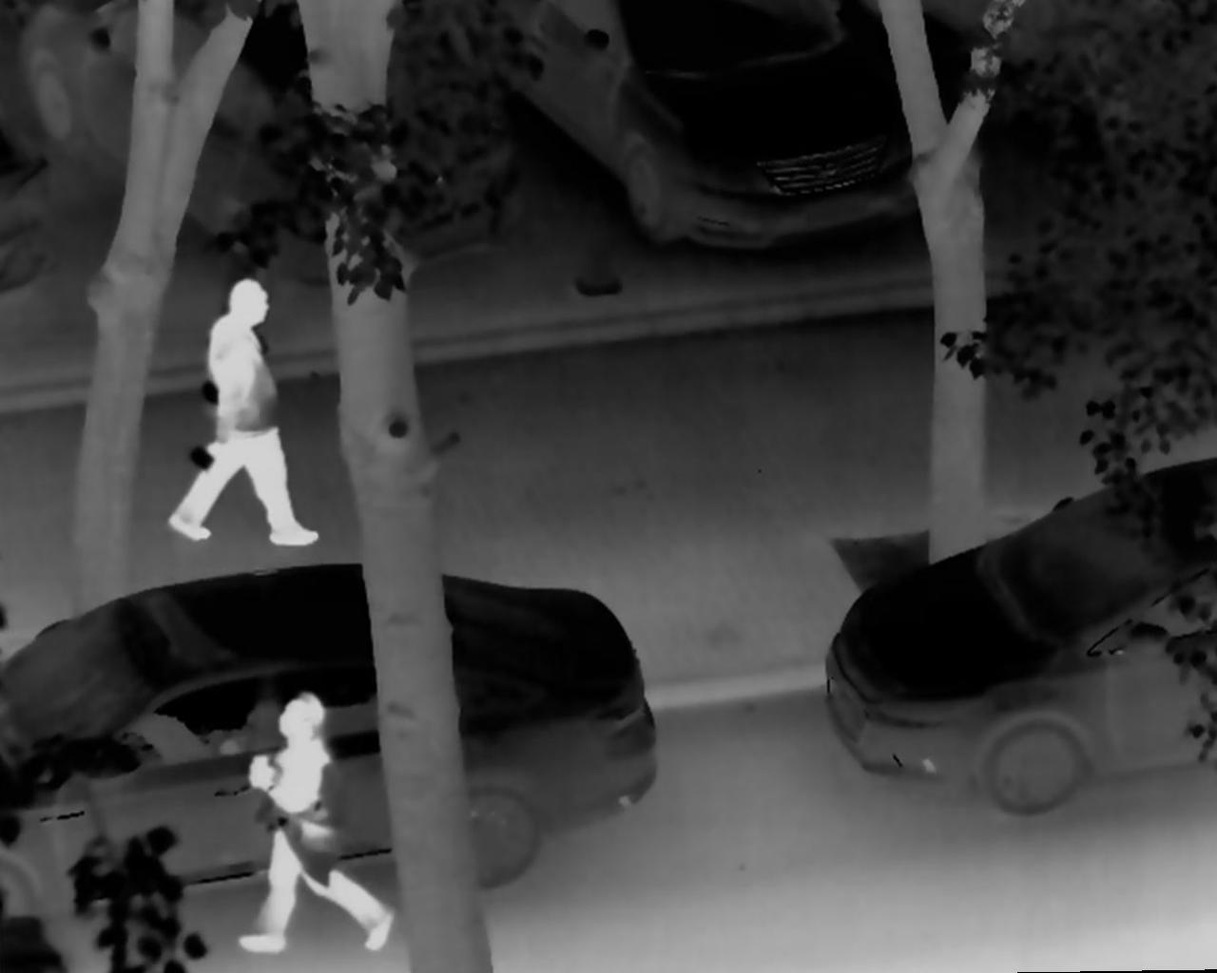person: (221, 687, 397, 958), (167, 280, 325, 552)
